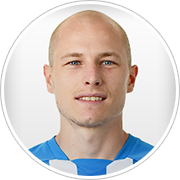face: (41, 38, 140, 124)
